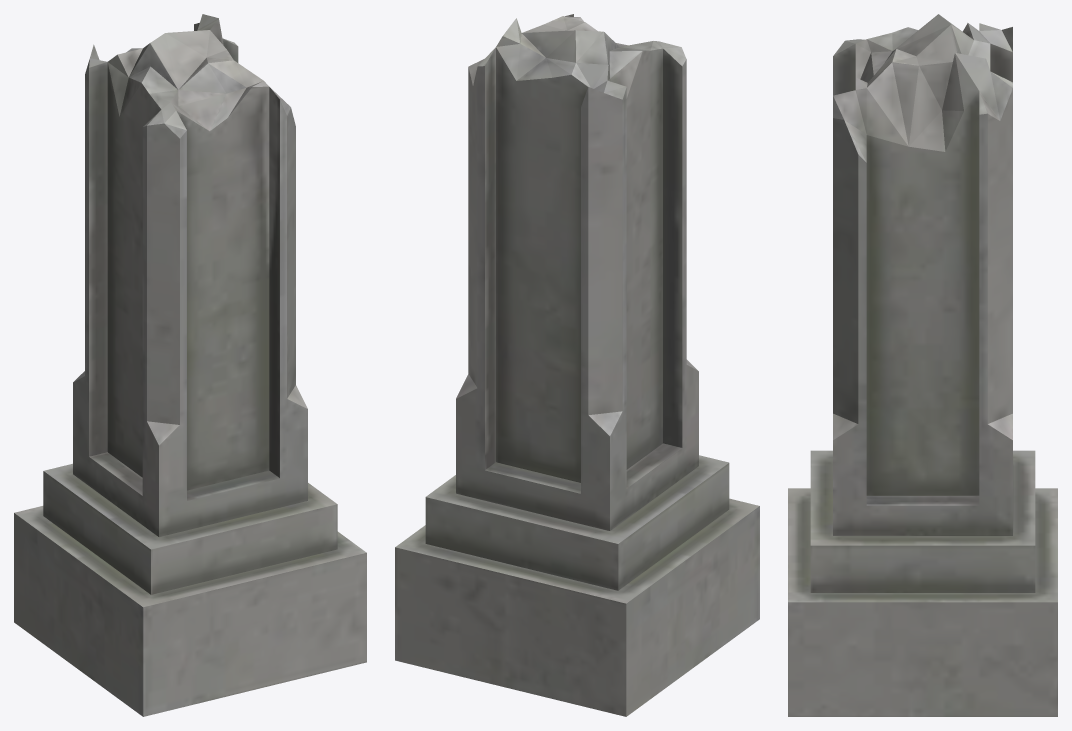
The model's file is temple-pillar-broken.glb.
3 views of the same model, side by side, from view 1: azimuth 30°, elevation 25°; view 2: azimuth 150°, elevation 25°; view 3: azimuth 270°, elevation 25° (orthographic). The views are drawn at different scales.
Visible parts, largest first — view 1: low; view 2: low; view 3: low.
Boxes of the visible parts, x1,y1,x2,y2 form: low: (14,14,366,716); low: (395,14,759,716); low: (788,14,1057,716).
Size of the model in its own units: 0.4663 by 1.2 by 0.4663.
Materials: 1 (1 with a texture image).
